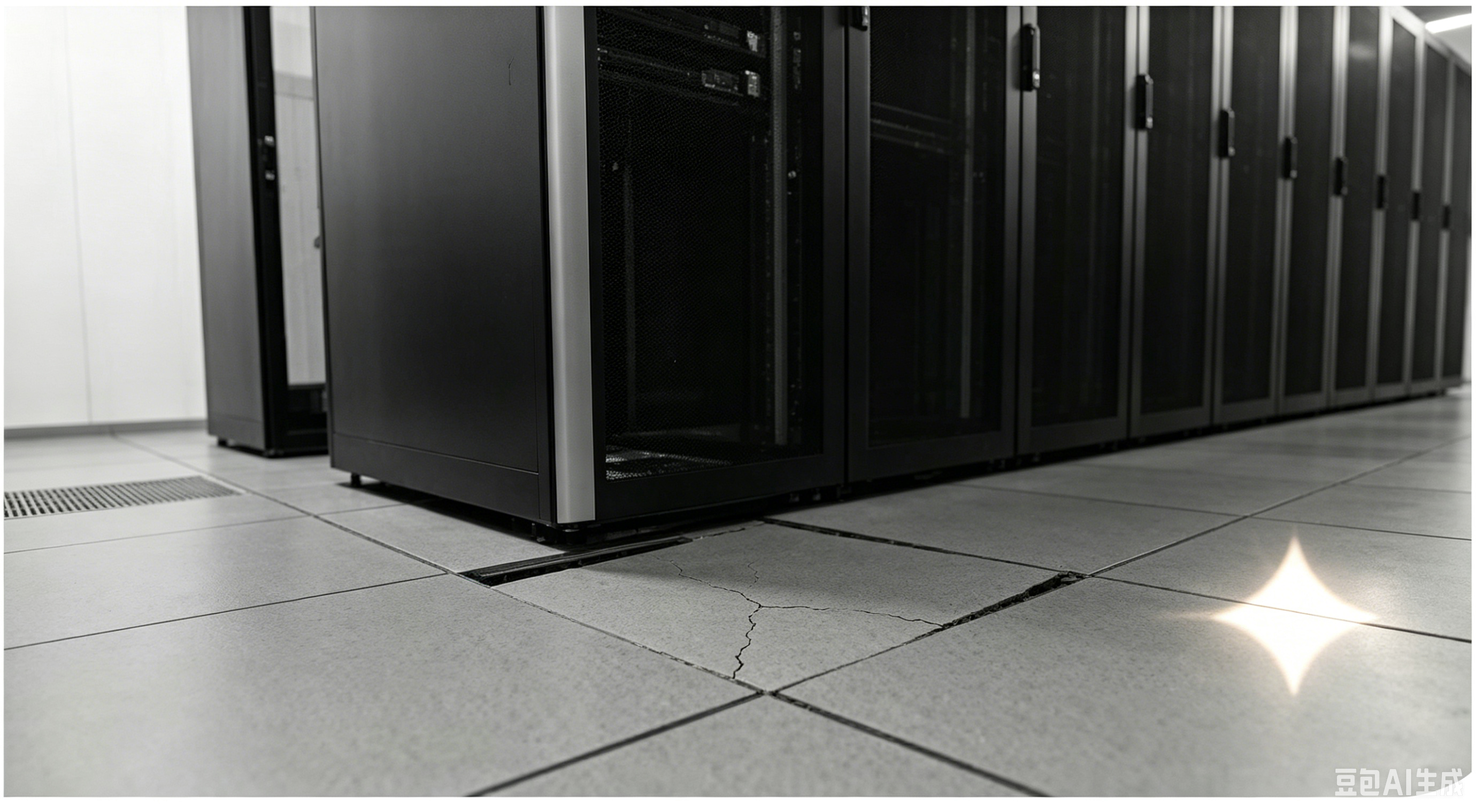floor_defect: (444, 522, 1086, 693)
